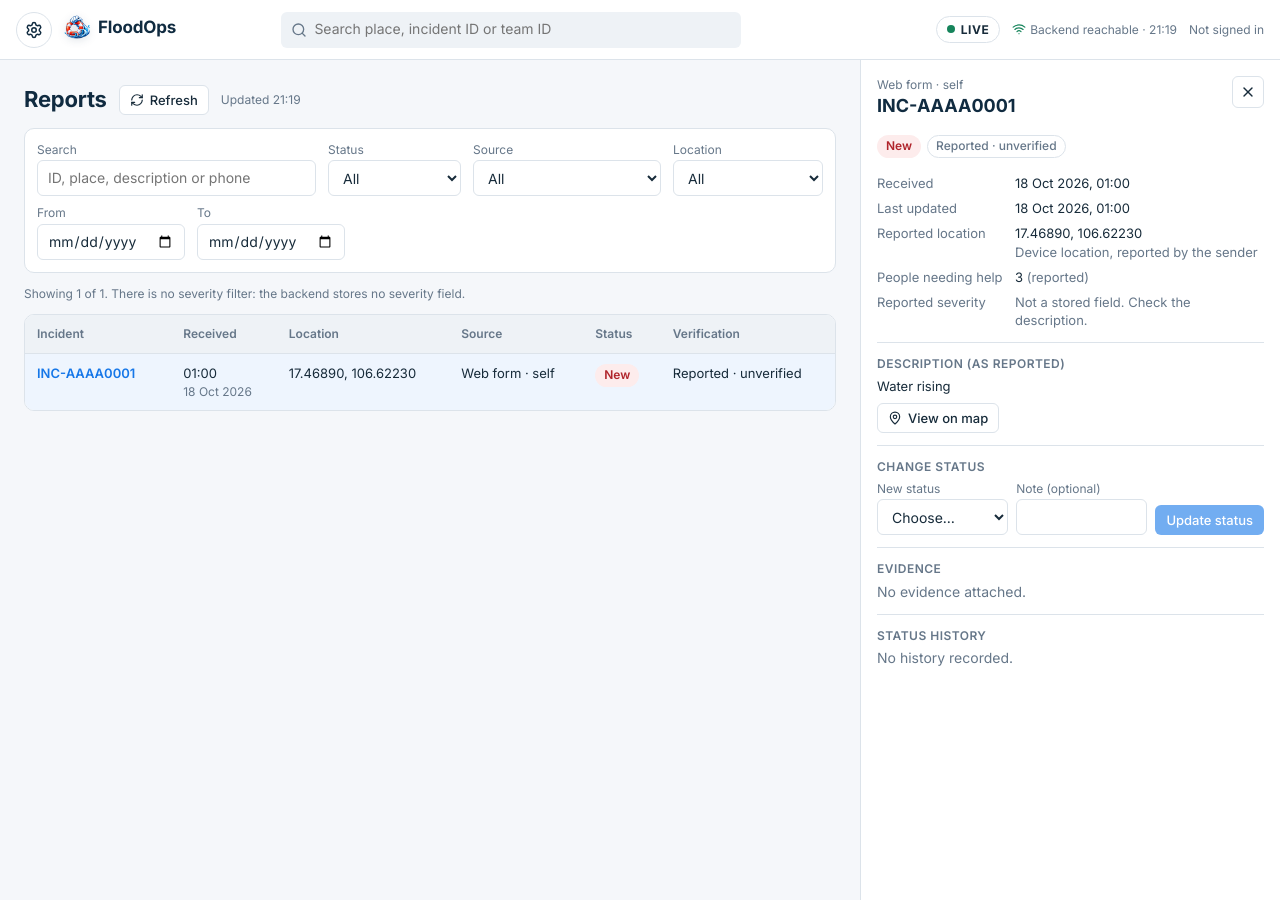
Test: status update › shows the server error when the update is rejected
The image size is (1280, 900).
Expected: the element named "Incident INC-AAAA0001" is shown, [877, 76, 1264, 669]
Select "Resolved" in the dropdown labelled "New status": (943, 517) [877, 499, 1008, 535]
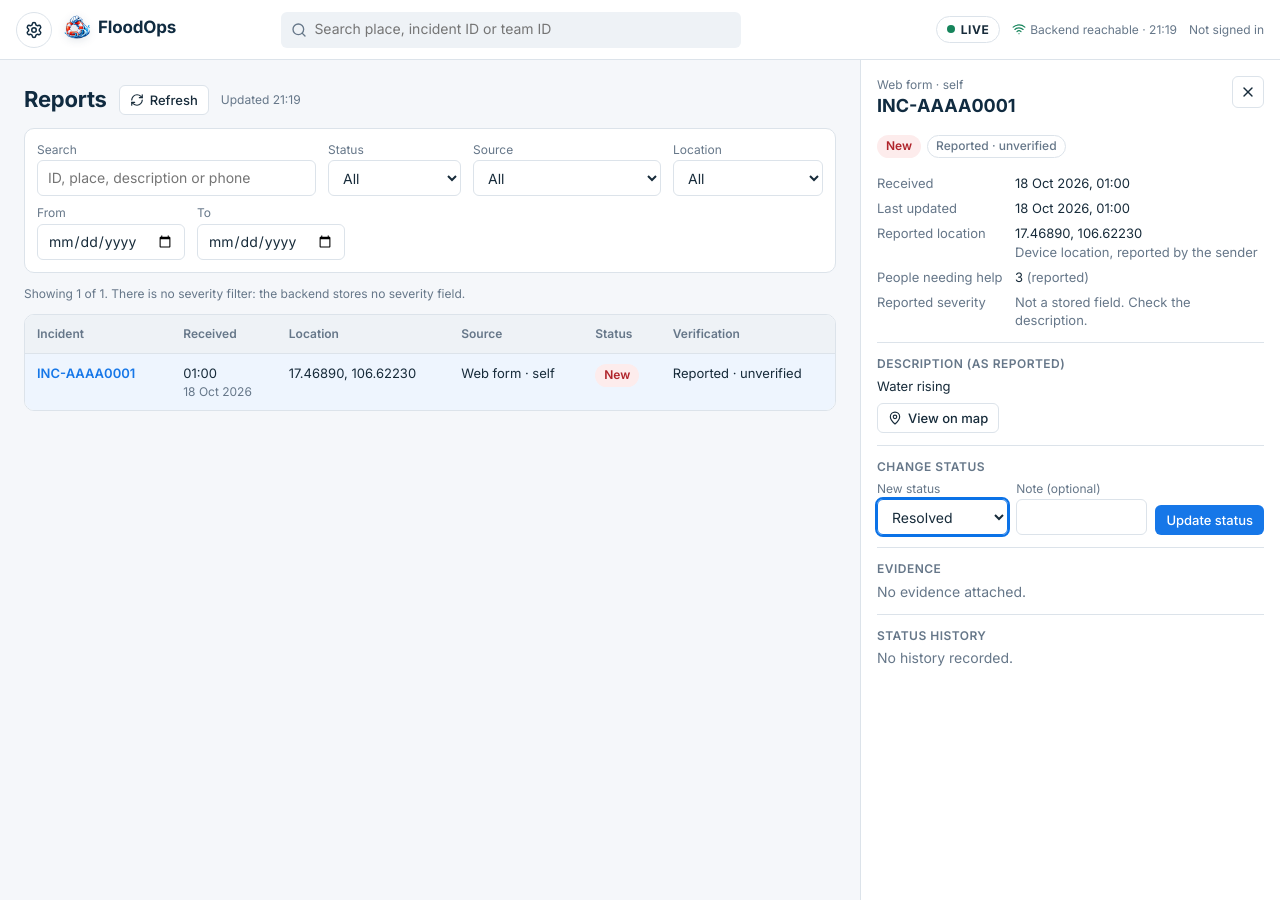
Click the button "Update status": (1210, 520) [1155, 505, 1264, 535]
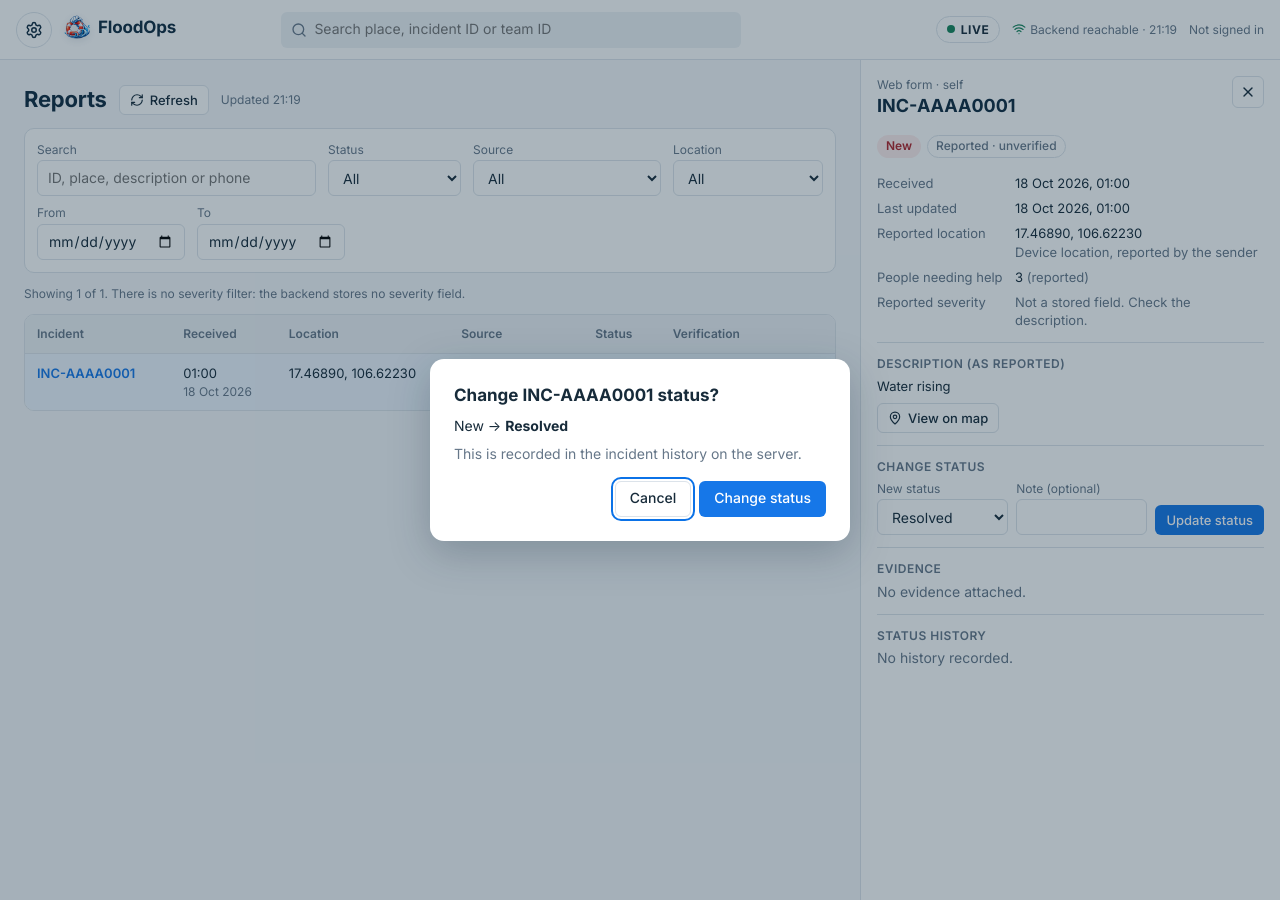
Click the button "Change status": (763, 499) [699, 481, 826, 517]
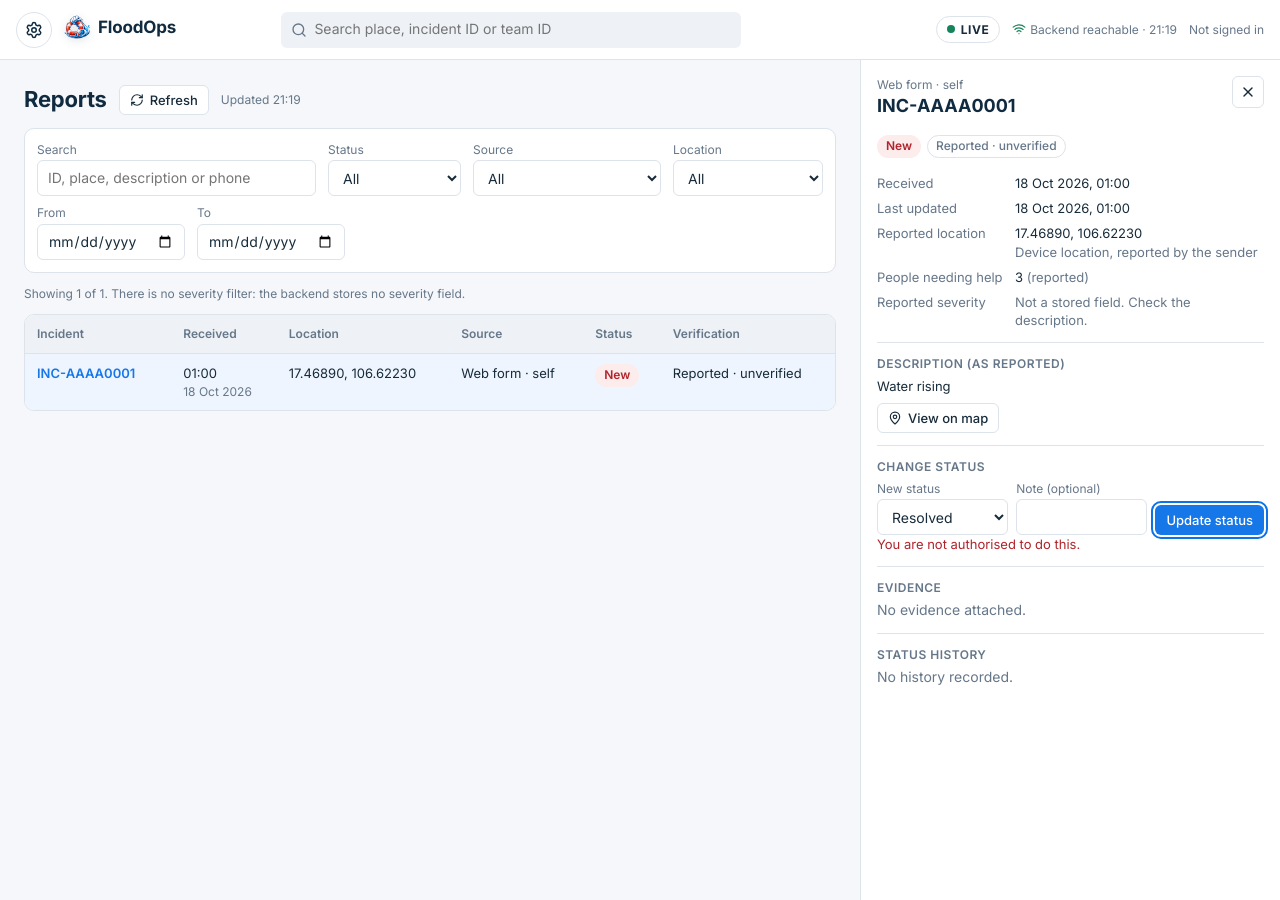
Expected: the text "You are not authorised to do this." is shown, [877, 536, 1080, 552]
